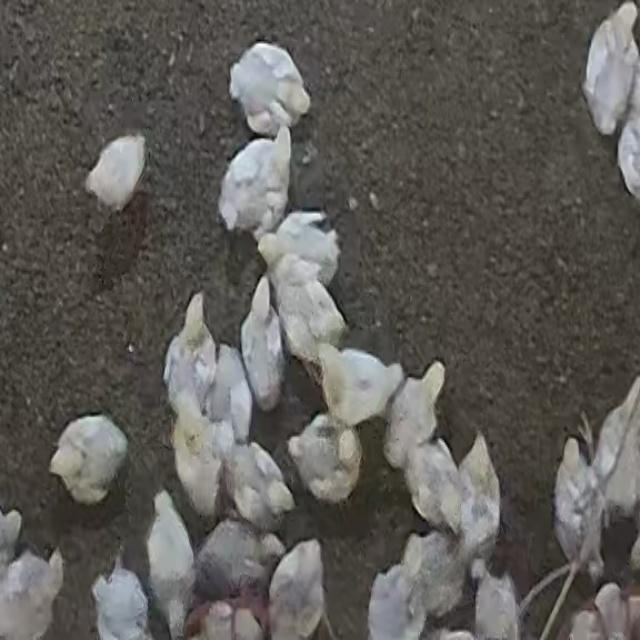chicken: (270, 261, 346, 372), (314, 343, 404, 432), (581, 2, 640, 132), (220, 130, 292, 236), (146, 489, 196, 632), (49, 414, 127, 504), (384, 360, 446, 473), (228, 45, 308, 132), (590, 375, 639, 512), (163, 291, 215, 420), (288, 414, 361, 505), (259, 210, 341, 290), (224, 436, 294, 529), (554, 436, 600, 574), (194, 519, 274, 597), (455, 432, 501, 567), (406, 434, 466, 537), (268, 538, 325, 639), (240, 276, 283, 409), (172, 406, 222, 518), (1, 547, 61, 637), (406, 527, 460, 622), (92, 558, 151, 640), (86, 136, 148, 211), (366, 564, 422, 640), (562, 584, 637, 638), (472, 562, 518, 640), (616, 71, 640, 201)
